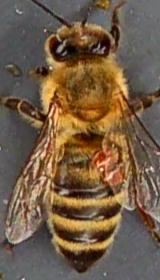varroa_mite: (75, 143, 128, 173), (95, 171, 127, 194)
